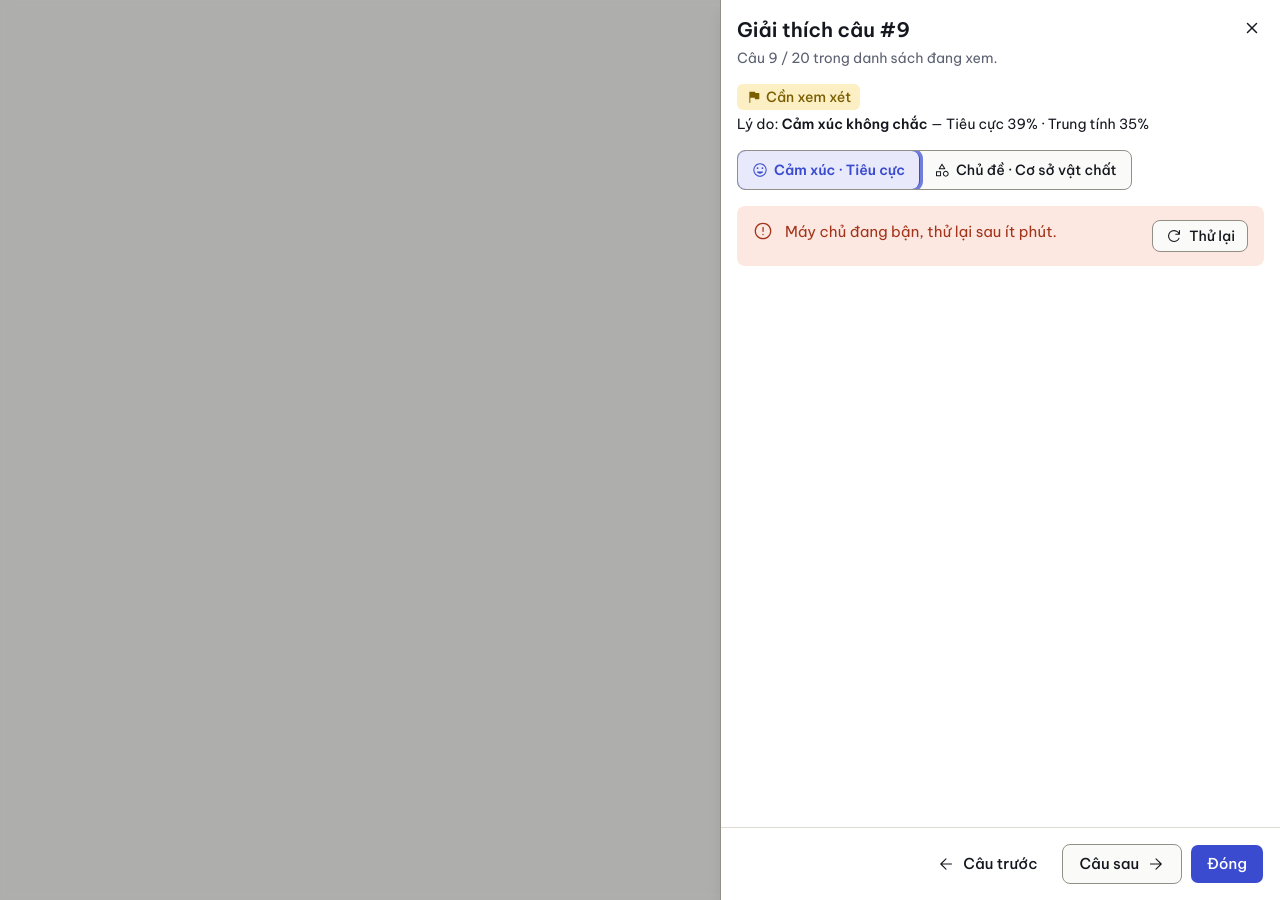
Test: ExplainSheet (dữ liệu ghi từ API thật) › lỗi mạng hiện thông báo tiếng Việt và cho thử lại
Expected: the text "Máy chủ đang bận, thử lại sau ít phút." is shown, x1=785 y1=222 x2=1057 y2=241
Click the button "Thử lại" at (1200,236), box x1=1152 y1=220 x2=1248 y2=252
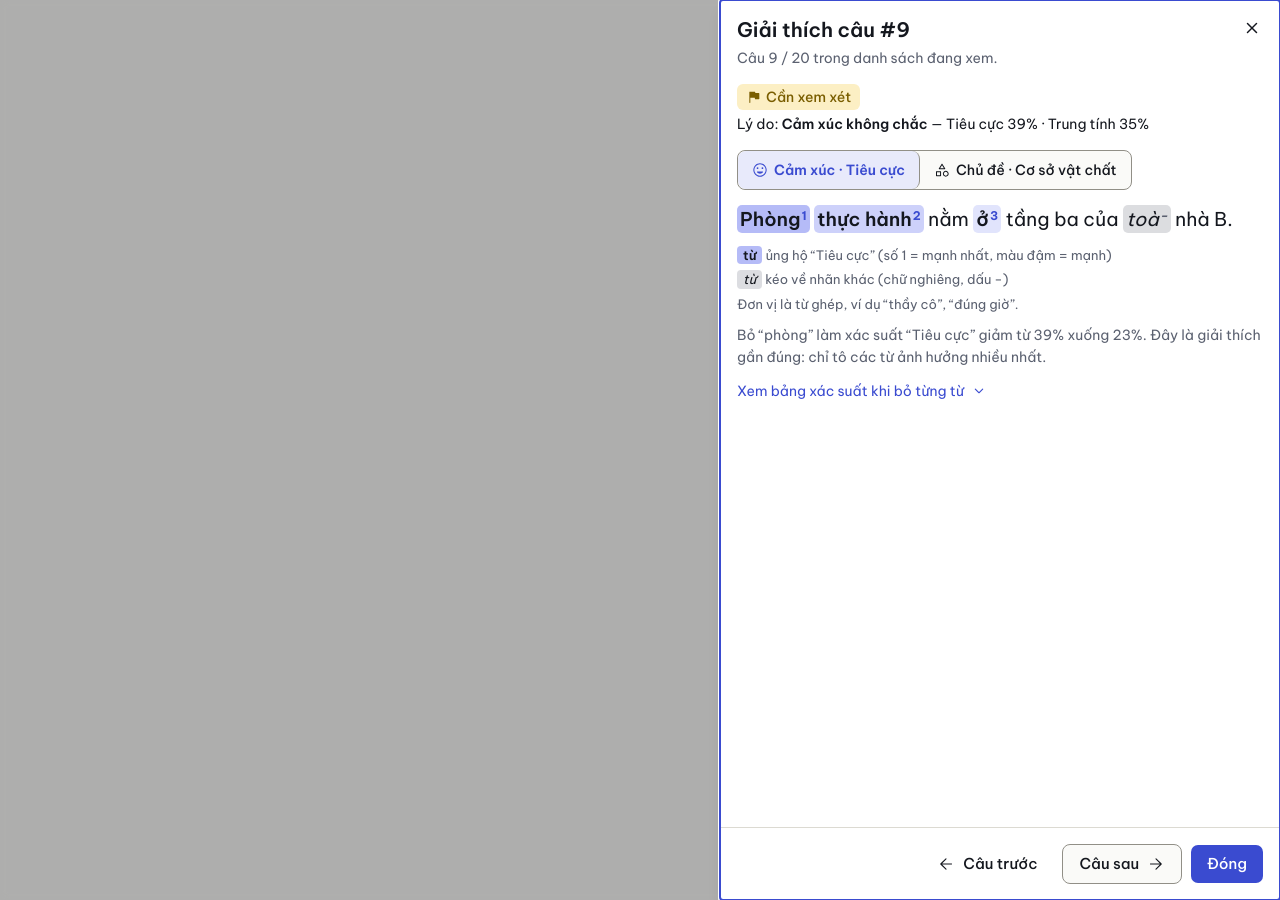
Now the text "Bỏ “" is shown, box x1=737 y1=326 x2=764 y2=344
